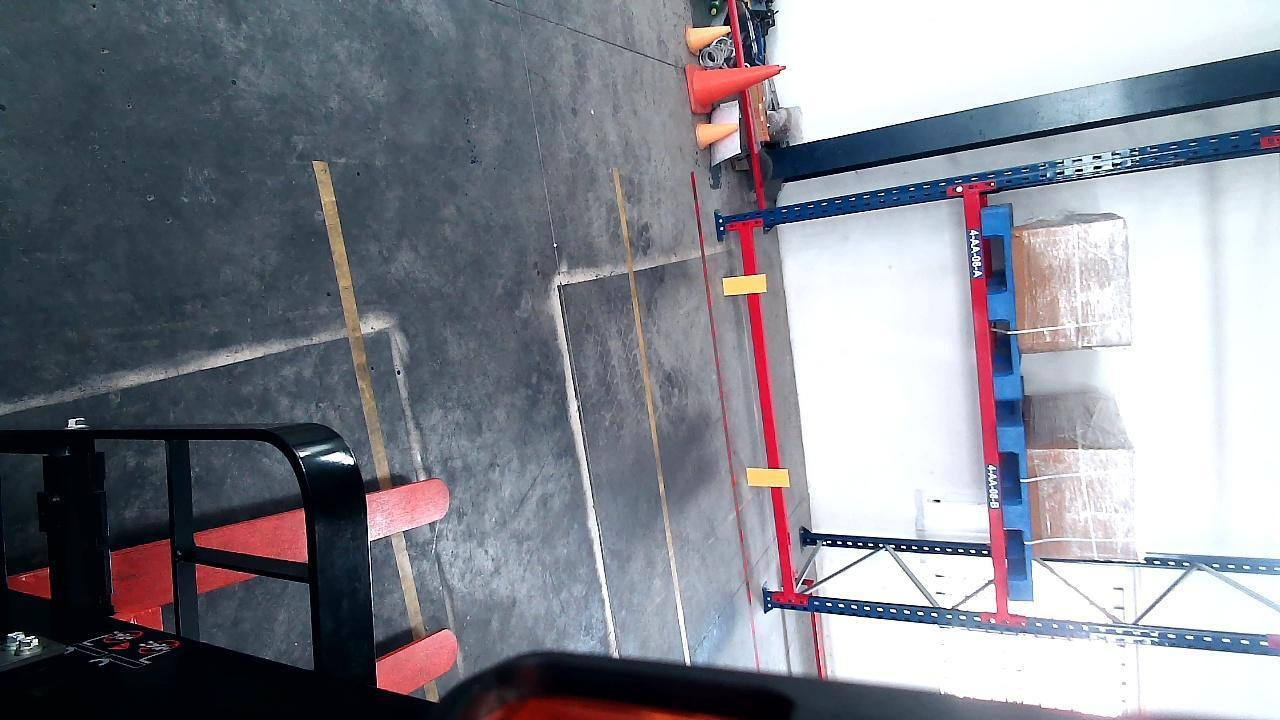h_rack: (738, 208, 801, 604), (970, 190, 1002, 603), (3, 569, 53, 595)
orange_strip: (721, 271, 765, 296), (745, 465, 787, 488)
red_line: (684, 169, 768, 669)
small_pallet: (983, 200, 1019, 395), (998, 424, 1033, 594)
yellow_line: (315, 154, 436, 704), (613, 173, 690, 663)
